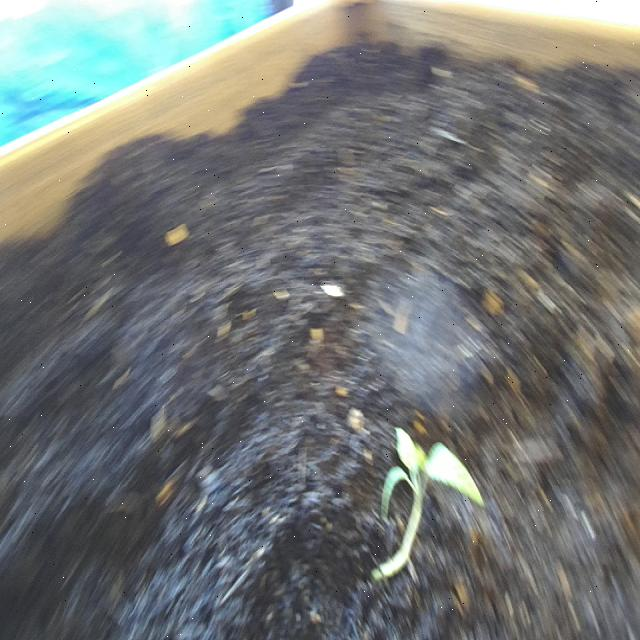Healthy: (362, 396, 494, 606)
